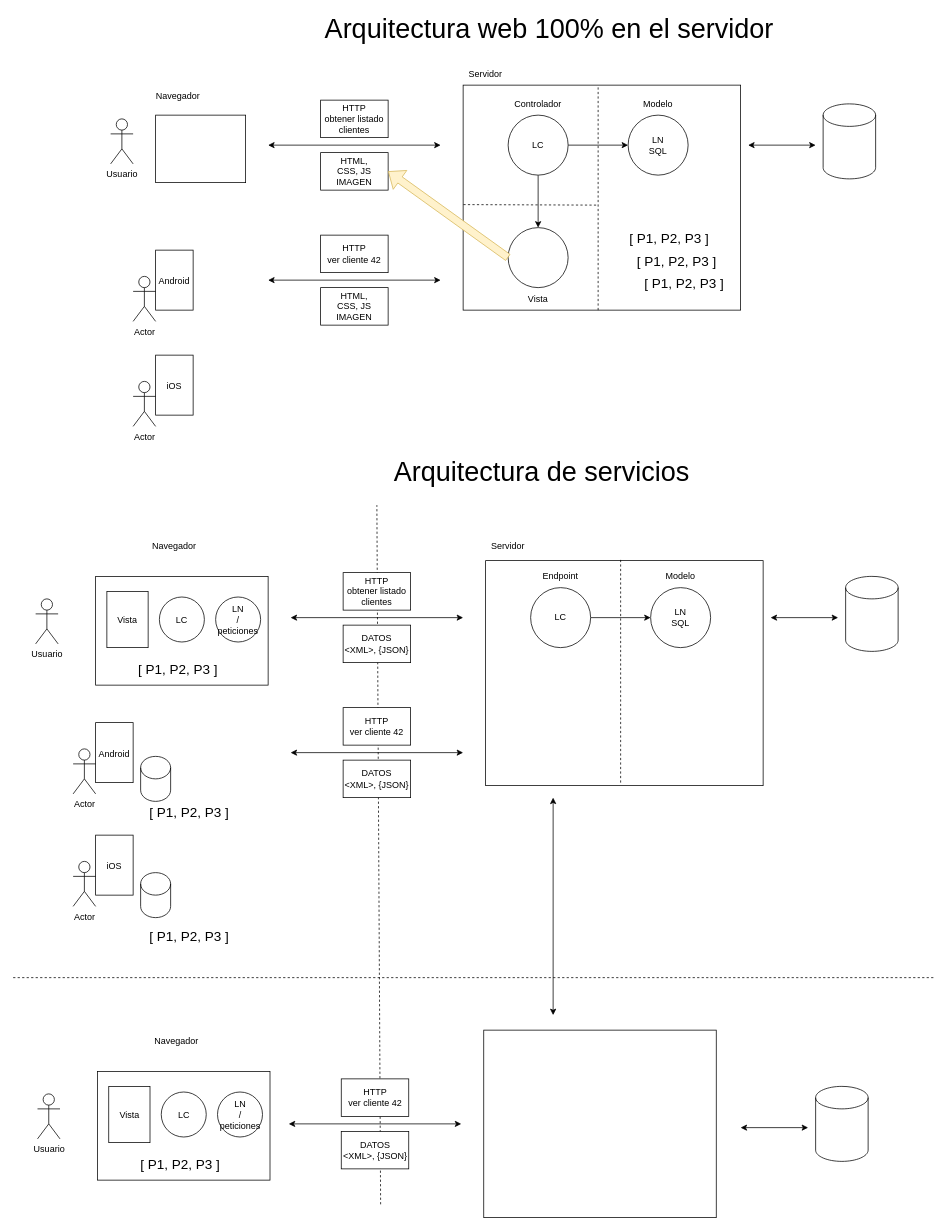
Image size: 950x1231. Some labels were removed from this diagram. The shapes that lost their labels are listed below. From the top down, each one's centre as x and y in pixels, then its label:
At (x=537, y=257): "Presentacion".
At (x=599, y=1123): "JAVA .NET PSH".
